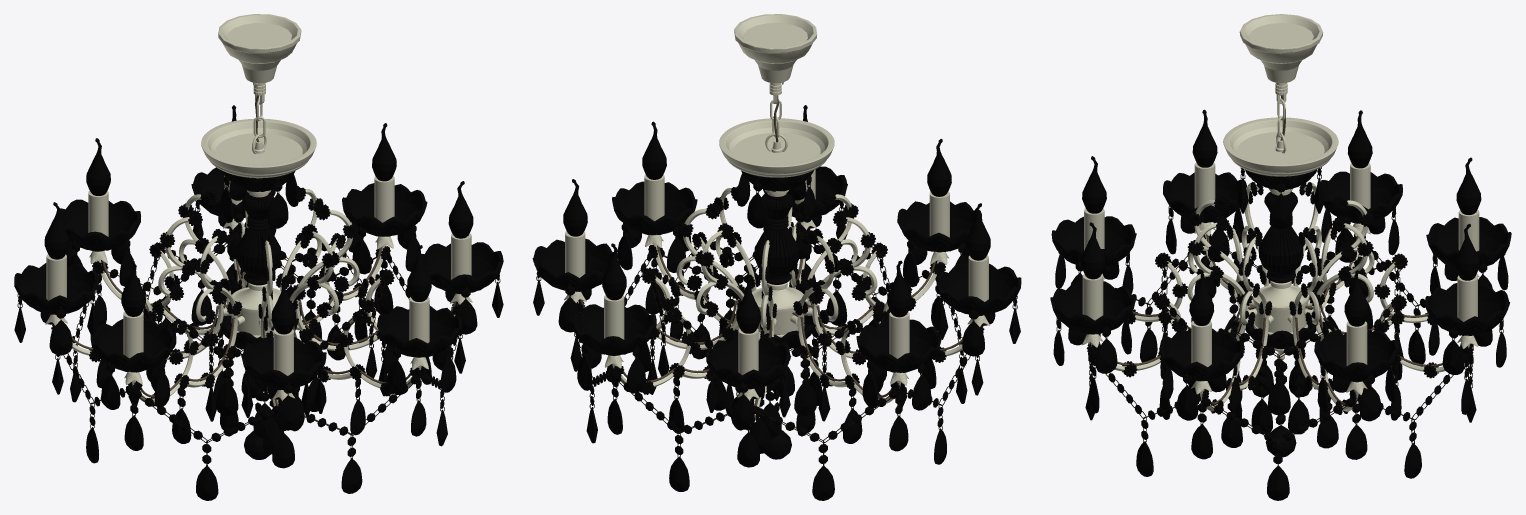
3 views of the same model, side by side, from view 1: azimuth 30°, elevation 25°; view 2: azimuth 150°, elevation 25°; view 3: azimuth 270°, elevation 25° (orthographic).
Parts seen in each view (by area): view 1: Line605, Line011, Line567, Line014, Line587, Line577, Line557, Line547, Line597, Line017, Line598, Line568 (+29 smaller); view 2: Line605, Line011, Line557, Line537, Line547, Line567, Line597, Line014, Line577, Line017, Line558, Line004 (+32 smaller); view 3: Line605, Line011, Line014, Line587, Line537, Line597, Line577, Line547, Line017, Line557, Line567, Line598 (+39 smaller).
Boxes of the visible parts, x1=… form: Line605: x1=201, y1=118, x2=316, y2=338; Line011: x1=218, y1=14, x2=301, y2=95; Line567: x1=90, y1=319, x2=175, y2=372; Line014: x1=342, y1=183, x2=427, y2=236; Line587: x1=377, y1=305, x2=461, y2=357; Line577: x1=241, y1=336, x2=326, y2=390; Line557: x1=14, y1=263, x2=99, y2=314; Line547: x1=59, y1=199, x2=140, y2=251; Line597: x1=420, y1=242, x2=503, y2=294; Line017: x1=236, y1=193, x2=281, y2=285; Line598: x1=295, y1=210, x2=458, y2=350; Line568: x1=132, y1=236, x2=237, y2=403; Line605: x1=719, y1=118, x2=834, y2=337; Line011: x1=734, y1=14, x2=817, y2=95; Line557: x1=856, y1=319, x2=941, y2=372; Line537: x1=571, y1=304, x2=656, y2=355; Line547: x1=706, y1=336, x2=790, y2=389; Line567: x1=936, y1=263, x2=1021, y2=315; Line597: x1=612, y1=181, x2=697, y2=235; Line014: x1=532, y1=238, x2=617, y2=291; Line577: x1=897, y1=201, x2=982, y2=252; Line017: x1=754, y1=193, x2=799, y2=284; Line558: x1=797, y1=236, x2=901, y2=403; Line004: x1=577, y1=208, x2=739, y2=349; Line605: x1=1223, y1=117, x2=1338, y2=359; Line011: x1=1239, y1=14, x2=1323, y2=95; Line014: x1=1314, y1=330, x2=1398, y2=382; Line587: x1=1050, y1=281, x2=1135, y2=334; Line537: x1=1425, y1=283, x2=1509, y2=335; Line597: x1=1159, y1=328, x2=1243, y2=381; Line577: x1=1051, y1=216, x2=1136, y2=266; Line547: x1=1426, y1=217, x2=1511, y2=267; Line017: x1=1259, y1=191, x2=1303, y2=283; Line557: x1=1321, y1=171, x2=1402, y2=223; Line567: x1=1163, y1=172, x2=1246, y2=222; Line598: x1=1200, y1=237, x2=1268, y2=411.
Bounding box in the file's own units: 740 × 754 × 740.
